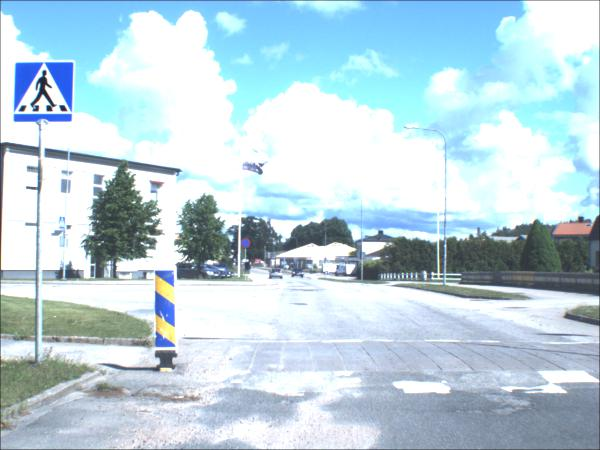NO_PARKING: (241, 239, 252, 251)
PEDESTRIAN_CROSSING: (13, 62, 75, 126), (59, 217, 66, 231)
